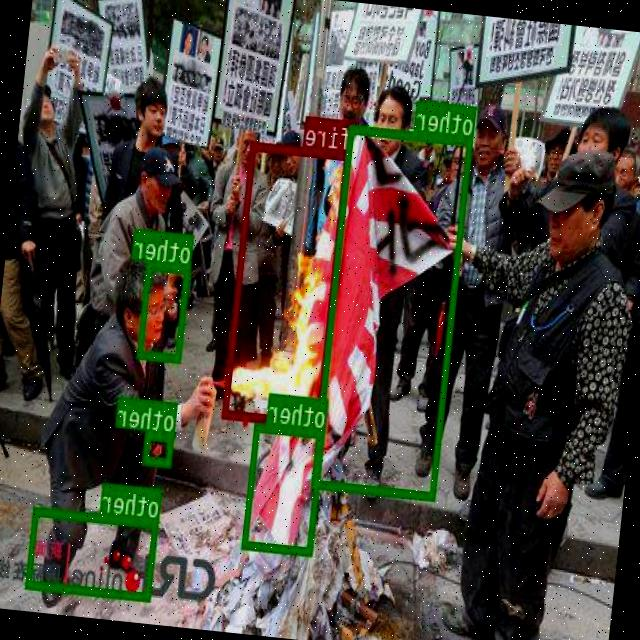fire: (222, 140, 352, 427)
